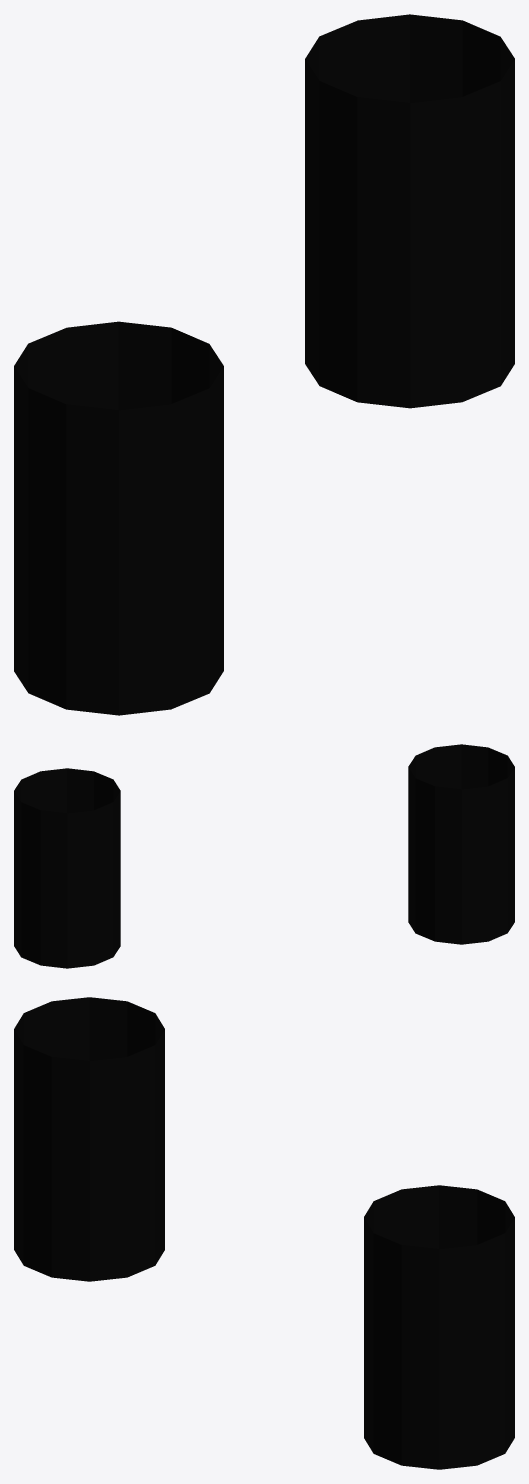
The model's file is PelagicIIExploration_Alpha_61.glb.
3 views of the same model, one above another, from view 1: azimuth 30°, elevation 25°; view 2: azimuth 150°, elevation 25°; view 3: azimuth 270°, elevation 25° (orthographic). The views are drawn at different scales.
Parts seen in each view (by area): view 1: PelagicIIExploration_Alpha_61; view 2: PelagicIIExploration_Alpha_61; view 3: PelagicIIExploration_Alpha_61.
Part boxes in pixels (x1,y1,x2,y2): PelagicIIExploration_Alpha_61: (14, 14, 514, 715); PelagicIIExploration_Alpha_61: (14, 744, 514, 968); PelagicIIExploration_Alpha_61: (14, 997, 514, 1469).
Bounding box in the file's own units: 53.25 × 21.75 × 44.75.
1 material, 1 textured.
